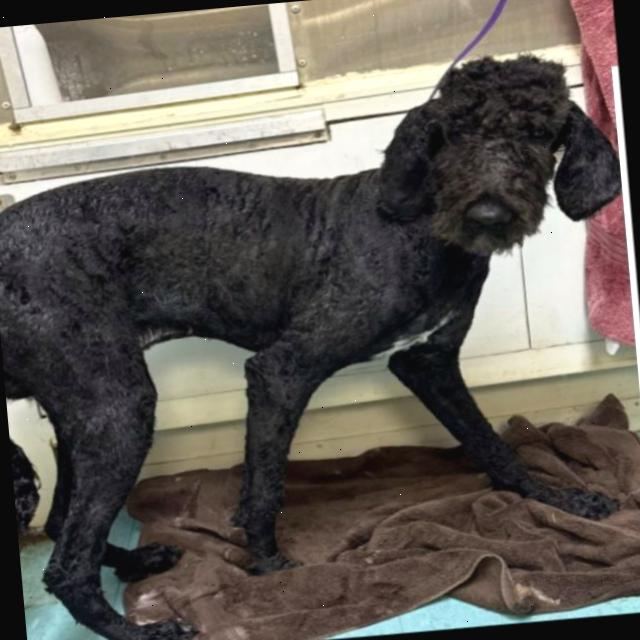Poodle_dog: (353, 44, 630, 278)
